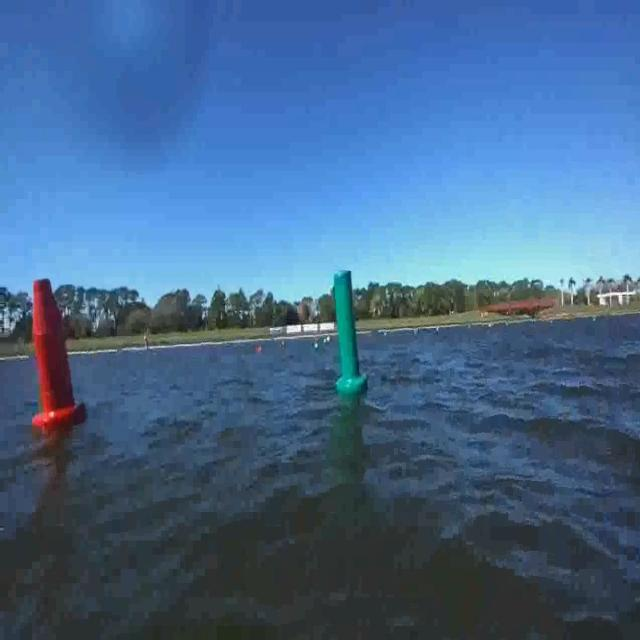green-column-buoy: (334, 271, 368, 395)
red-column-buoy: (29, 277, 82, 432)
